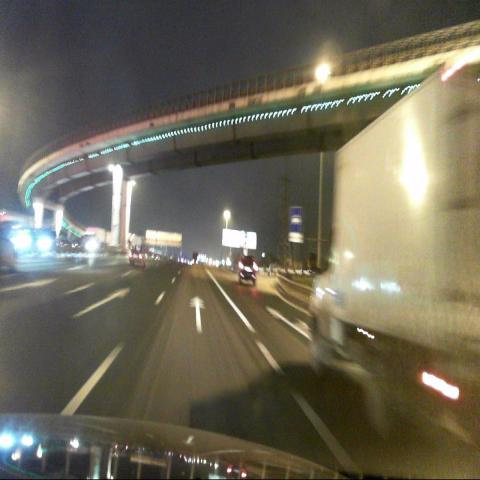5_3: (290, 206, 302, 232)
